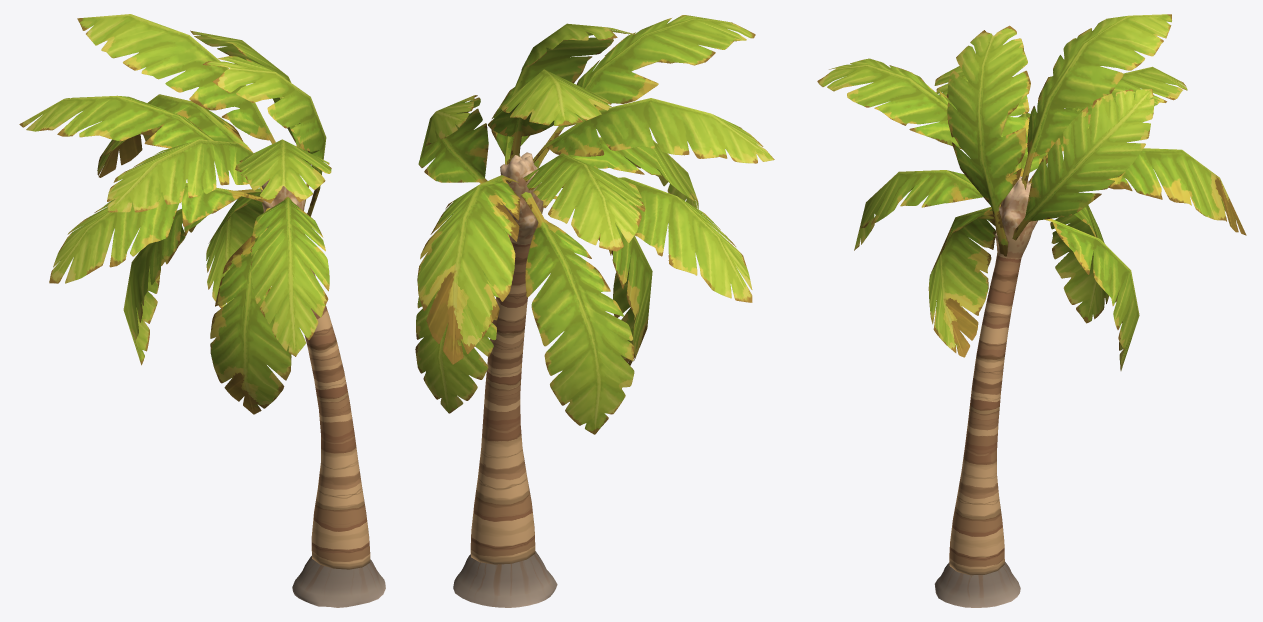
Rendered from Palm_03_LODs.fbx.
3 renders of one model, left to right at view 1: azimuth 30°, elevation 25°; view 2: azimuth 150°, elevation 25°; view 3: azimuth 270°, elevation 25°, orthographic. The views are drawn at different scales.
Parts seen in each view (by area): view 1: Palm_03_LOD0; view 2: Palm_03_LOD0; view 3: Palm_03_LOD0.
Part boxes in pixels (<box>): Palm_03_LOD0: <box>19,14,385,607</box>; Palm_03_LOD0: <box>415,15,774,607</box>; Palm_03_LOD0: <box>817,14,1246,607</box>.
Size of what is drawn, in the model's own units: 249 by 431 by 330.
